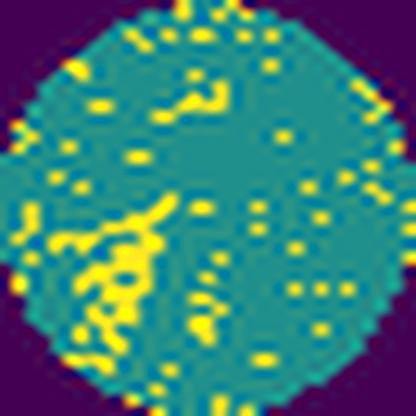Loc: (50, 186, 184, 348), (150, 75, 240, 123)
